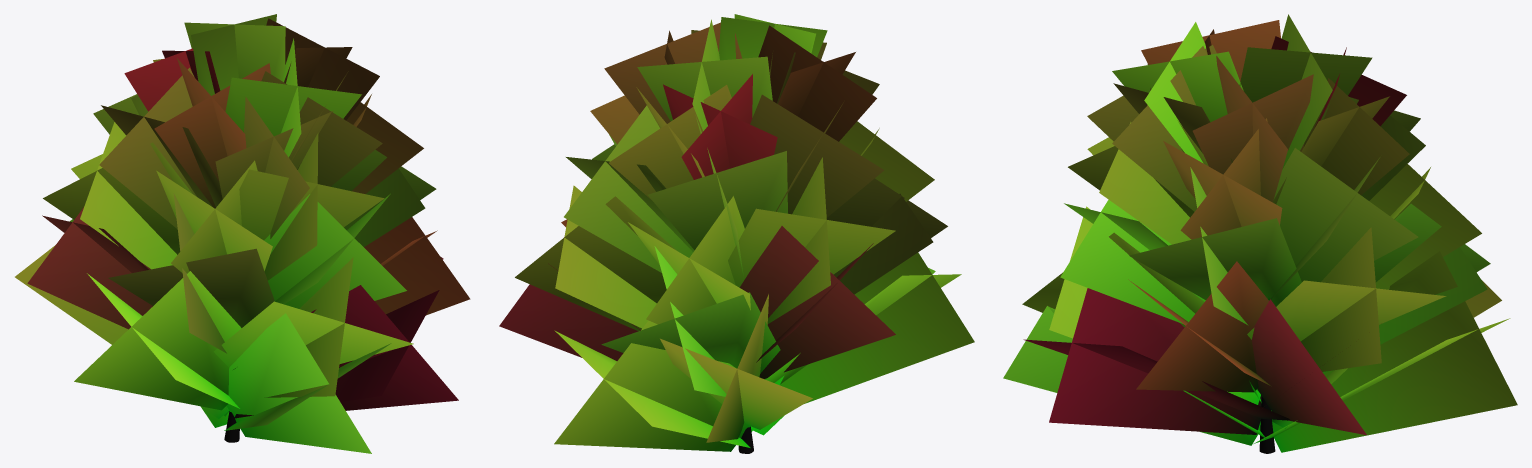
Rendered from Bush_8_3.fbx.
The picture shows the model from 3 angles, left to right: view 1: azimuth 30°, elevation 25°; view 2: azimuth 150°, elevation 25°; view 3: azimuth 270°, elevation 25°; orthographic projection. The views are drawn at different scales.
Parts seen in each view (by area): view 1: _3; view 2: _3; view 3: _3.
Boxes of the visible parts, x1,y1,x2,y2 form: _3: (15, 14, 470, 453); _3: (499, 14, 974, 453); _3: (1003, 14, 1517, 453).
Size of the model in its own units: 666 by 656 by 719.
